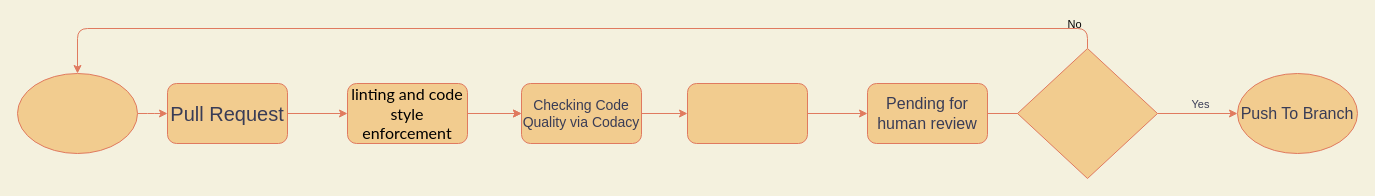
This 1375x196 diagram has some shape labels left out. Here are the shapes that lost their labels. From the top down, the centre of each, then its label:
At point (77, 113): "Raw Code".
At point (747, 113): "Unit Test".
At point (1087, 113): "Pull Request Approve".
